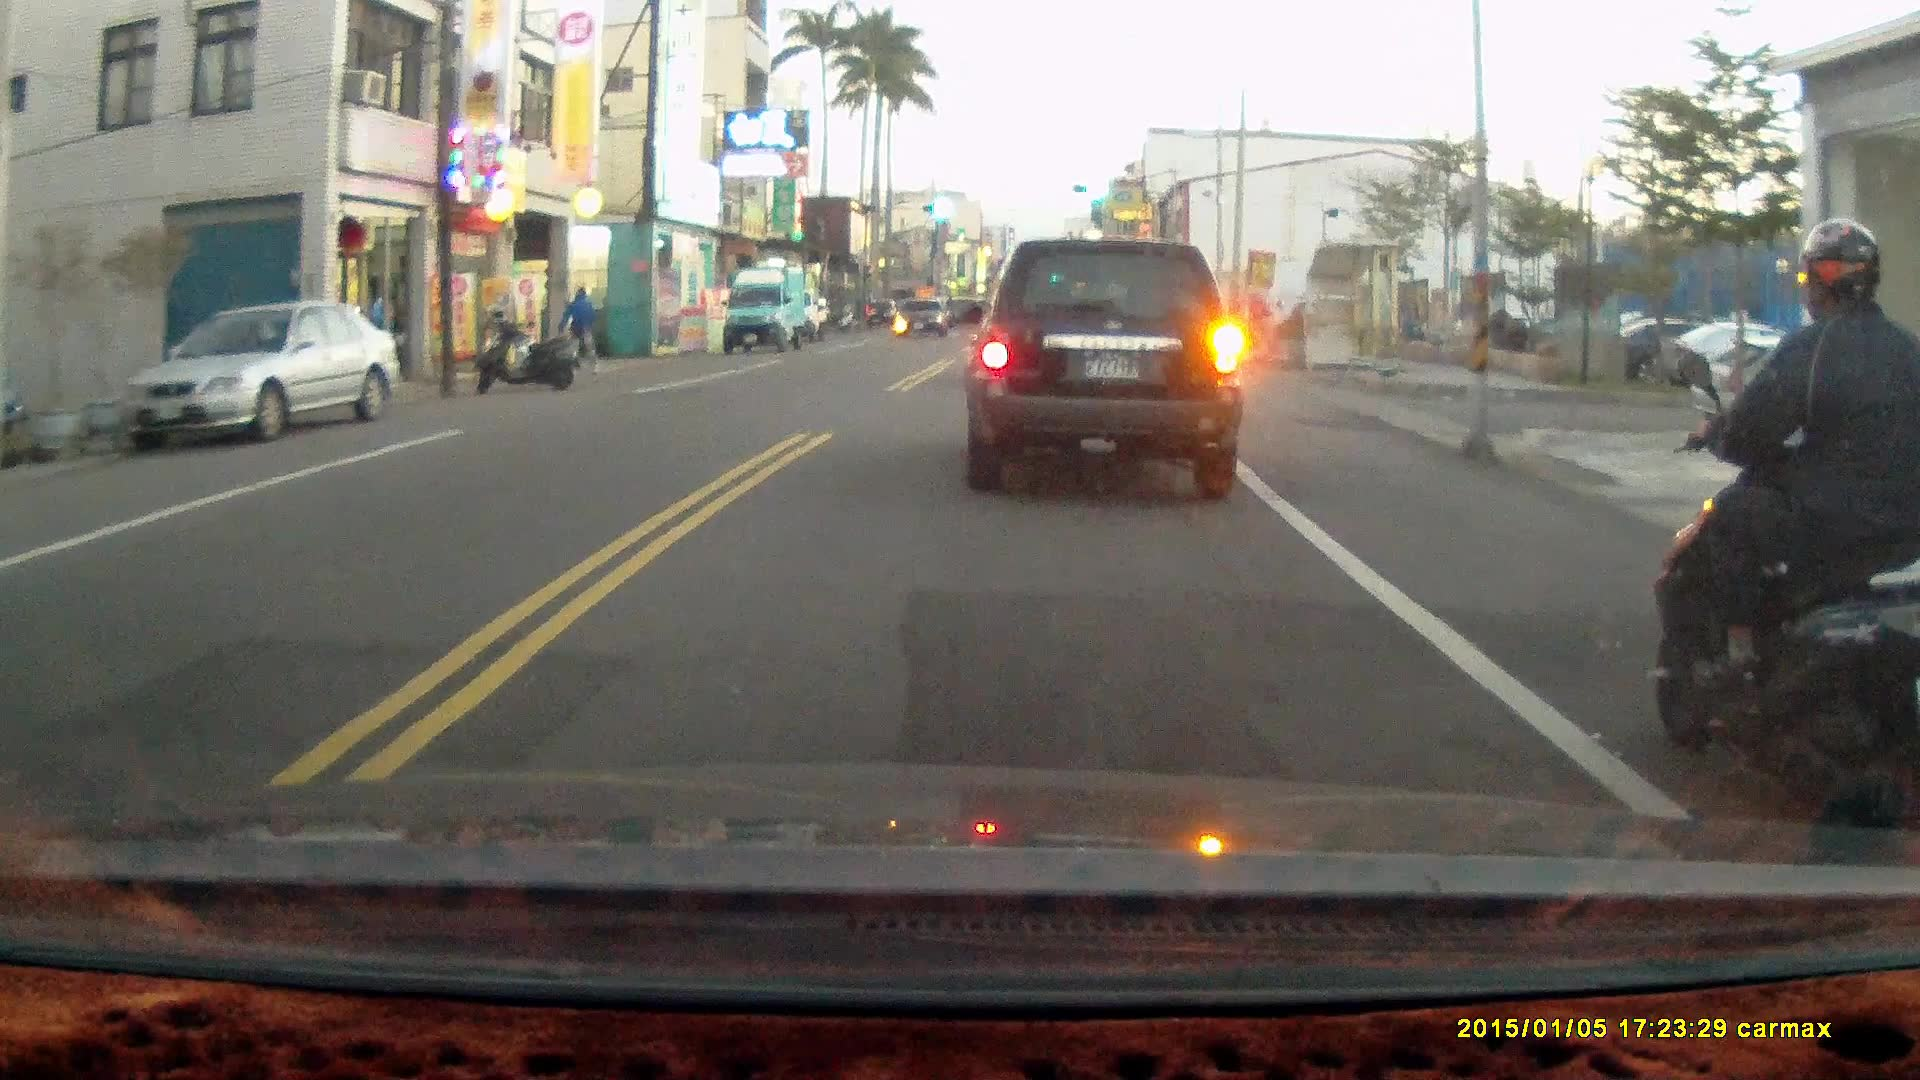pedestrian: (559, 281, 601, 373)
rider: (1649, 217, 1920, 874)
vehicle: (968, 232, 1248, 505), (126, 298, 406, 442), (1707, 339, 1910, 429), (722, 262, 810, 352), (896, 297, 952, 339)
